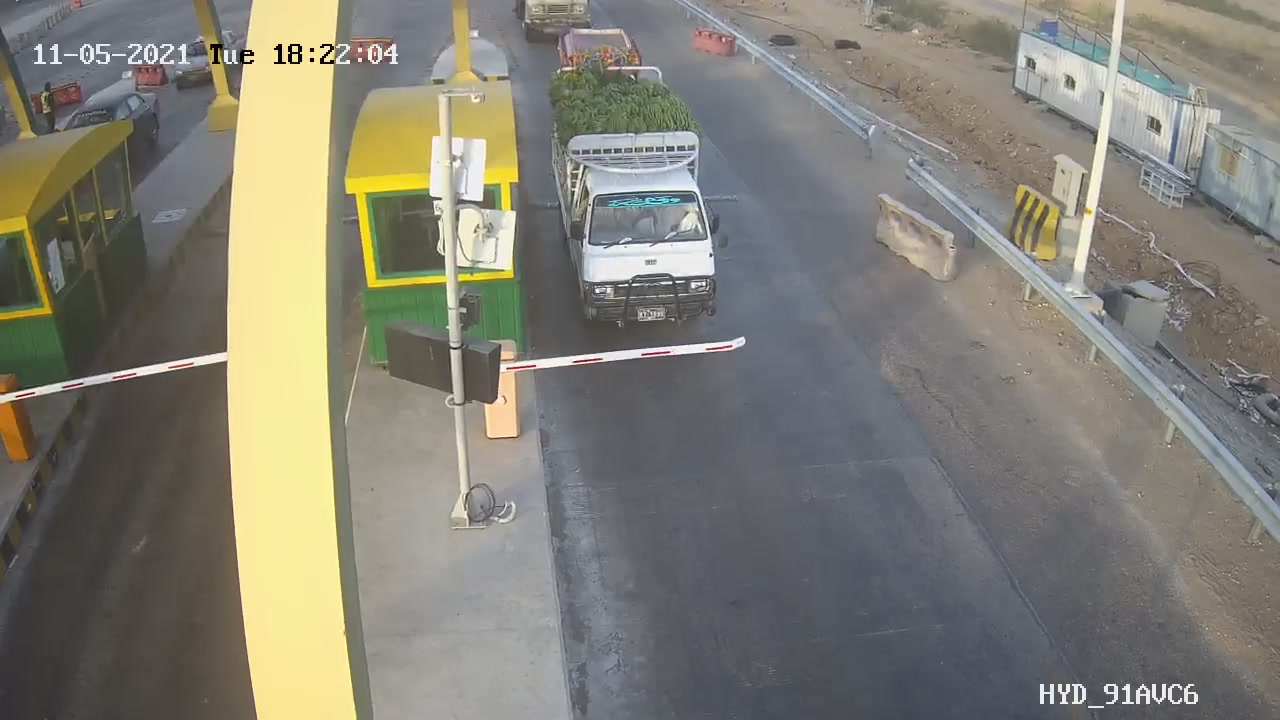F2: (528, 59, 742, 342)
